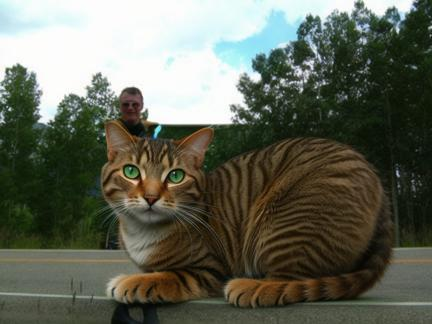cat: (99, 124, 395, 308)
person: (100, 87, 175, 324)
